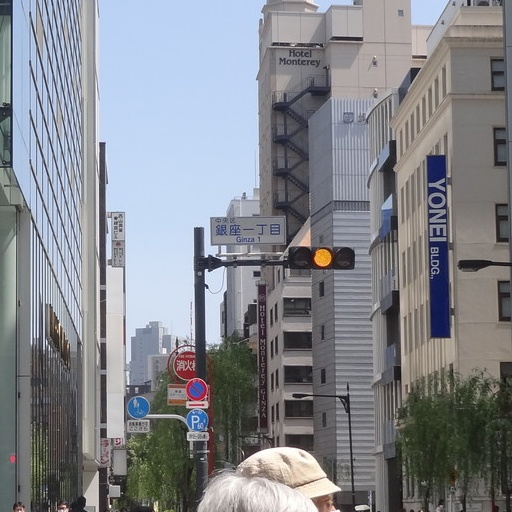Traffic_Signal_Yellow: (285, 238, 358, 276)
